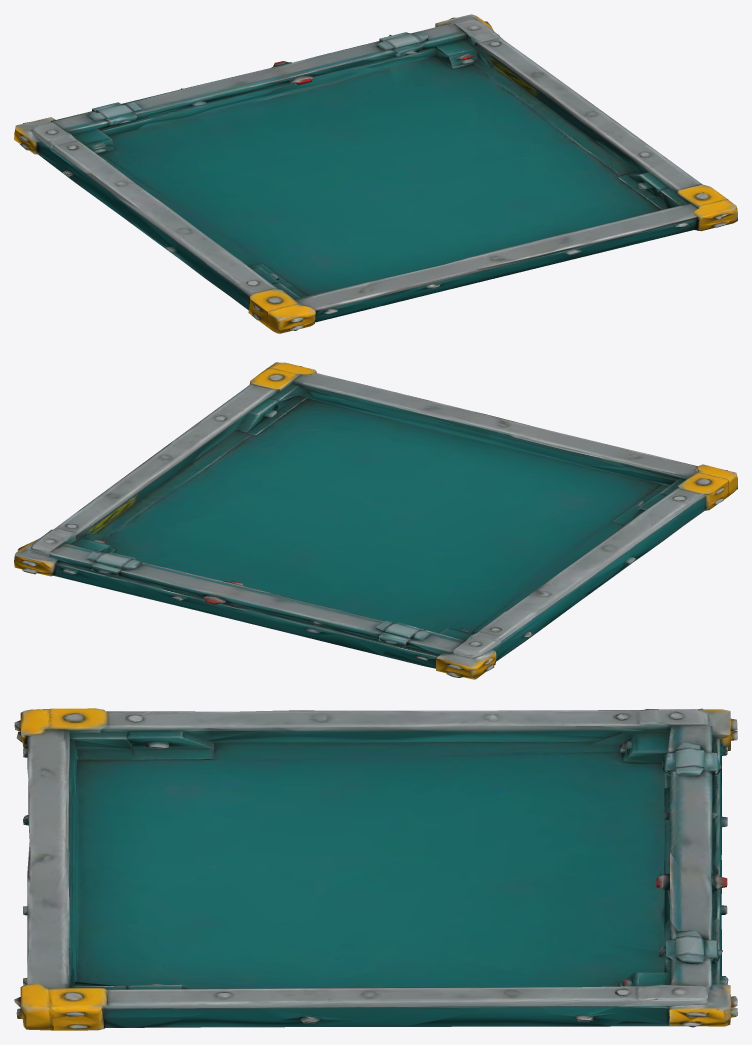
Rendered from factory-cabinet.glb.
The picture shows the model from 3 angles, top to bottom: view 1: azimuth 30°, elevation 25°; view 2: azimuth 150°, elevation 25°; view 3: azimuth 270°, elevation 25°; orthographic projection. The views are drawn at different scales.
Parts seen in each view (by area): view 1: factory-cabinet-body; view 2: factory-cabinet-body; view 3: factory-cabinet-body.
Part boxes in pixels (x1,y1,x2,y2): factory-cabinet-body: [14, 14, 737, 333]; factory-cabinet-body: [14, 362, 737, 679]; factory-cabinet-body: [14, 708, 737, 1030].
Size of the model in its own units: 2.5 by 0.12 by 2.5.
1 material, 1 textured.
